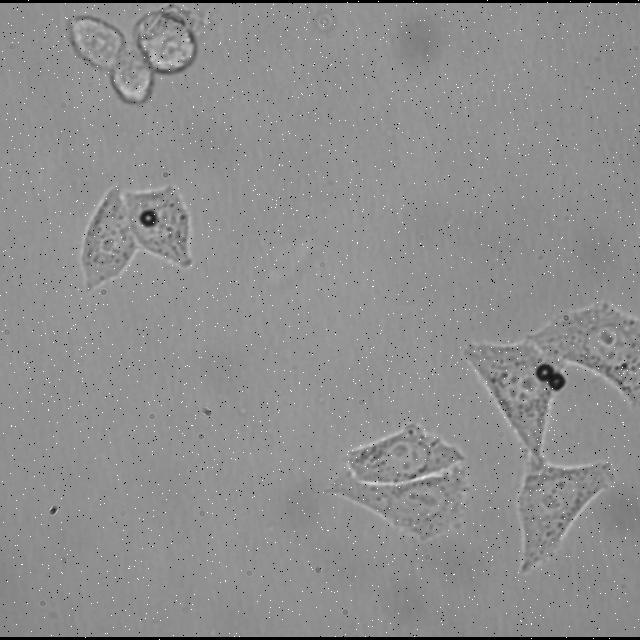microbeads: (546, 370, 568, 392), (136, 204, 158, 226), (534, 362, 552, 380)
